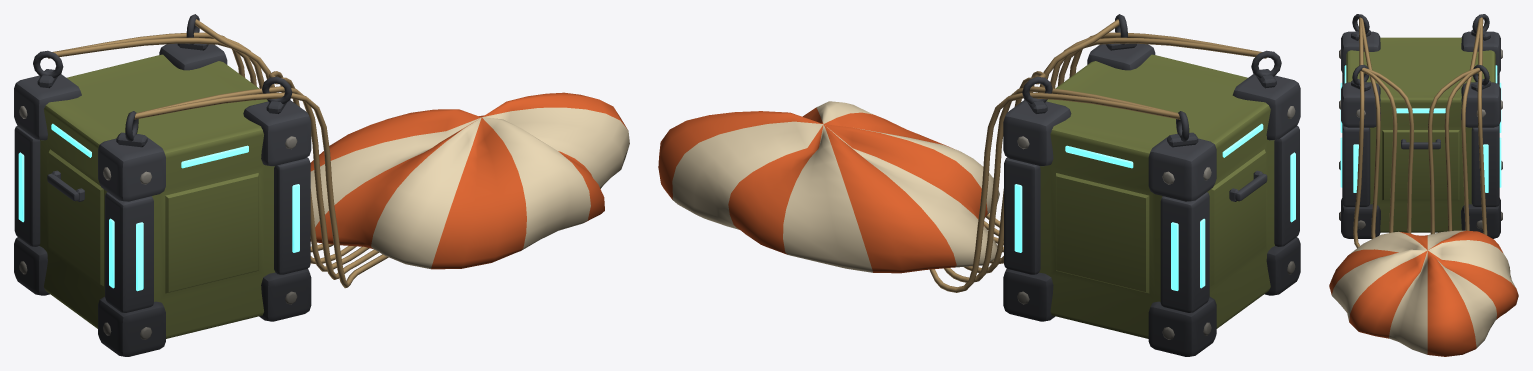
File: supply_drop_landed.glb
3 renders of one model, left to right at view 1: azimuth 30°, elevation 25°; view 2: azimuth 150°, elevation 25°; view 3: azimuth 270°, elevation 25°, orthographic. The views are drawn at different scales.
Parts seen in each view (by area): view 1: crate_body, canopy_collapsed, crate_frame, ropes_landed, light_strips, rope_clips_landed; view 2: crate_body, canopy_collapsed, crate_frame, ropes_landed, light_strips, rope_clips_landed; view 3: canopy_collapsed, crate_body, crate_frame, ropes_landed, light_strips, rope_clips_landed.
Part boxes in pixels (x1,y1,x2,y2): crate_body: (39,54,275,338); canopy_collapsed: (310,92,629,269); crate_frame: (14,43,311,356); ropes_landed: (48,19,388,288); light_strips: (18,123,299,291); rope_clips_landed: (33,14,292,147); crate_body: (1039,54,1274,338); canopy_collapsed: (658,101,999,273); crate_frame: (1003,43,1300,356); ropes_landed: (930,19,1266,292); light_strips: (1014,123,1295,290); rope_clips_landed: (1022,14,1281,147); canopy_collapsed: (1329,230,1518,356); crate_body: (1346,37,1495,232); crate_frame: (1339,31,1502,238); ropes_landed: (1353,17,1487,248); light_strips: (1340,65,1501,192); rope_clips_landed: (1351,14,1490,91).
Bounding box in the file's own units: 3.58 × 1.39 × 1.42.
